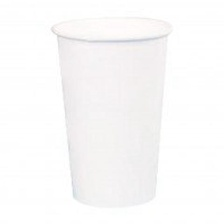paper_cup: (44, 9, 177, 212)
